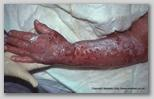NonPU: (11, 31, 142, 67)
